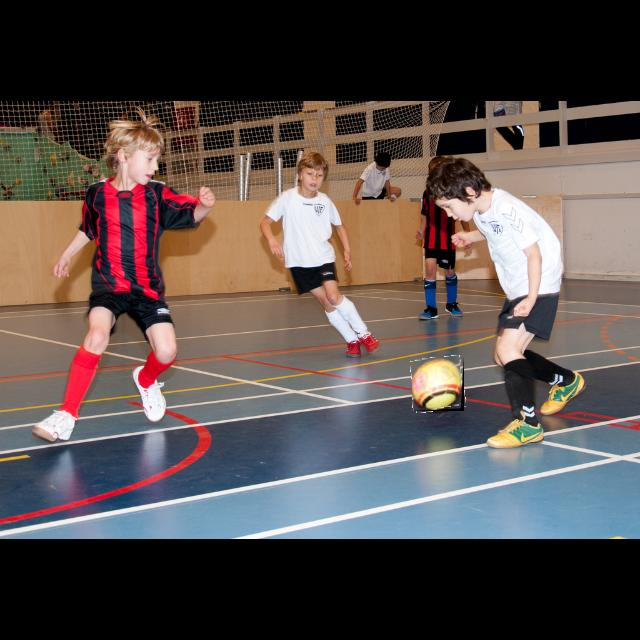Football: (412, 357, 464, 411)
